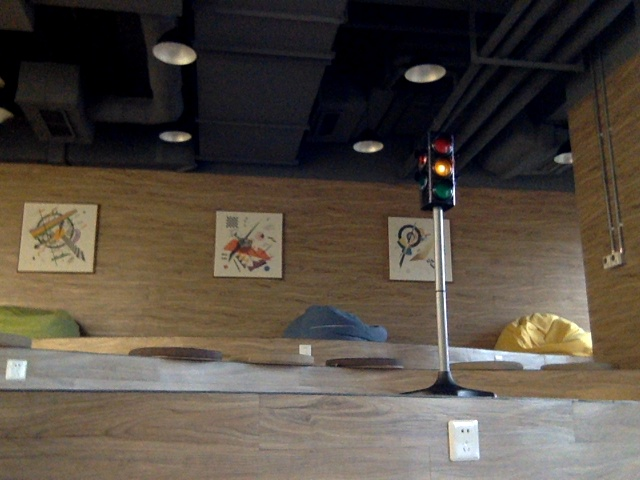yellow: (426, 141, 454, 201)
